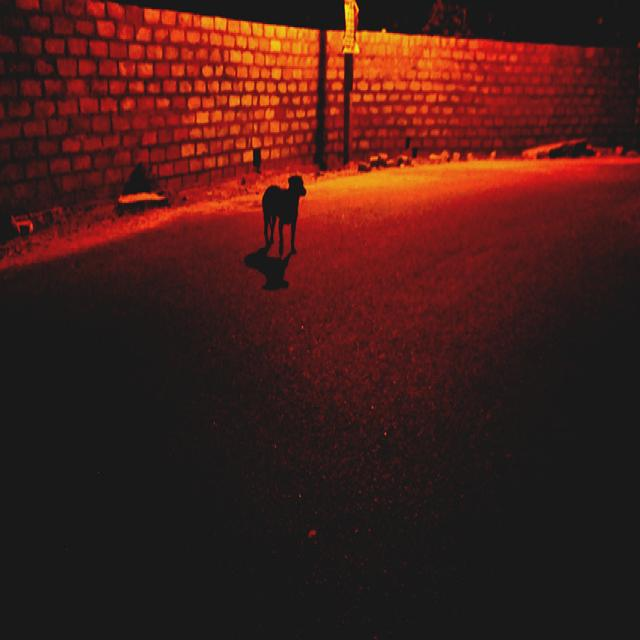dog: (214, 152, 322, 283)
